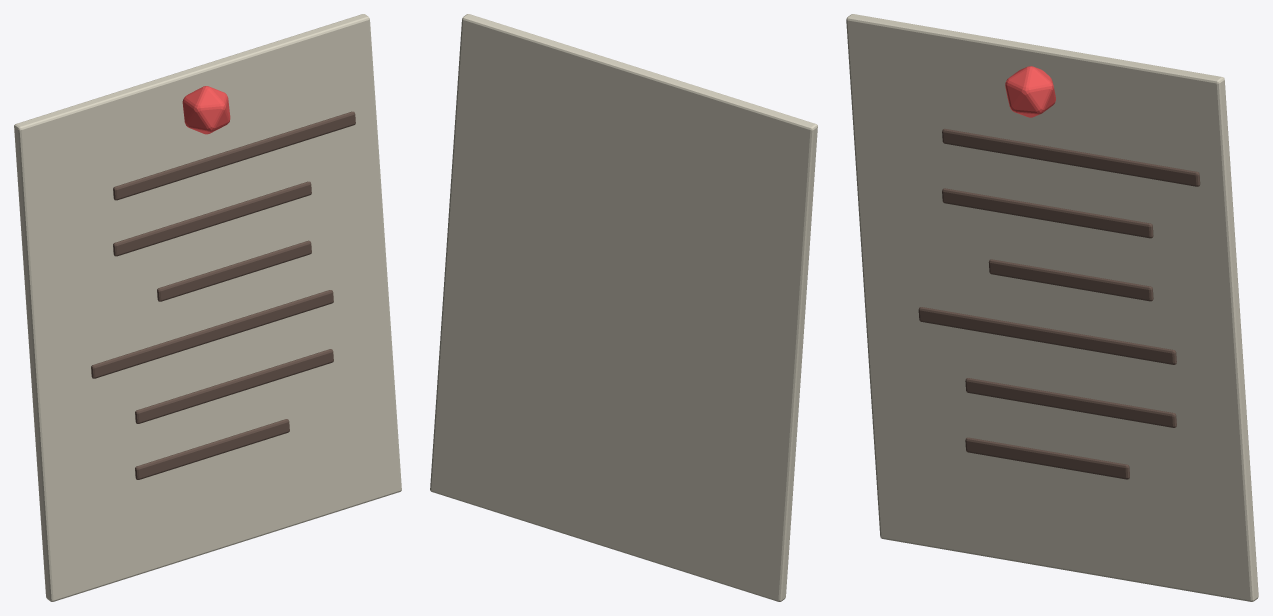
Rendered from NotaPared.glb.
3 renders of one model, left to right at view 1: azimuth 30°, elevation 25°; view 2: azimuth 150°, elevation 25°; view 3: azimuth 330°, elevation 25°, orthographic. The views are drawn at different scales.
Visible parts, largest first — view 1: NotaPared; view 2: NotaPared; view 3: NotaPared.
Boxes of the visible parts, box(x1,y1,x2,y2) form: NotaPared: box(14, 14, 401, 601); NotaPared: box(430, 14, 817, 601); NotaPared: box(846, 14, 1258, 601).
Size of the model in its own units: 0.3482 by 0.441 by 0.0383.
